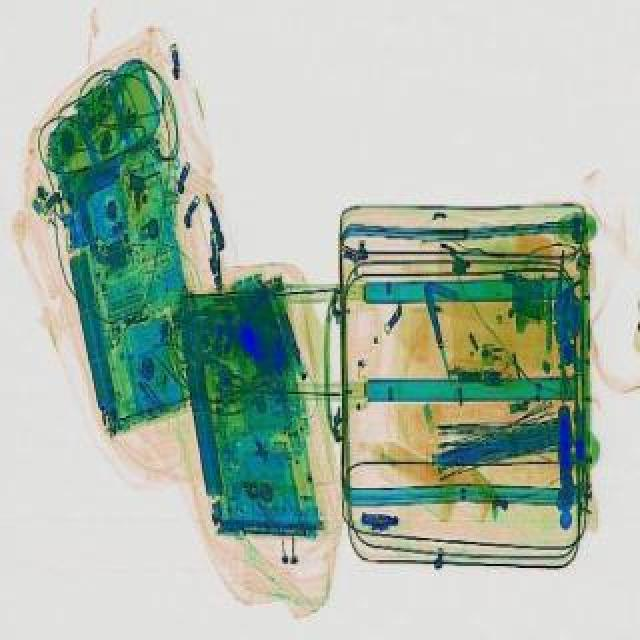knife: (420, 290, 456, 394)
